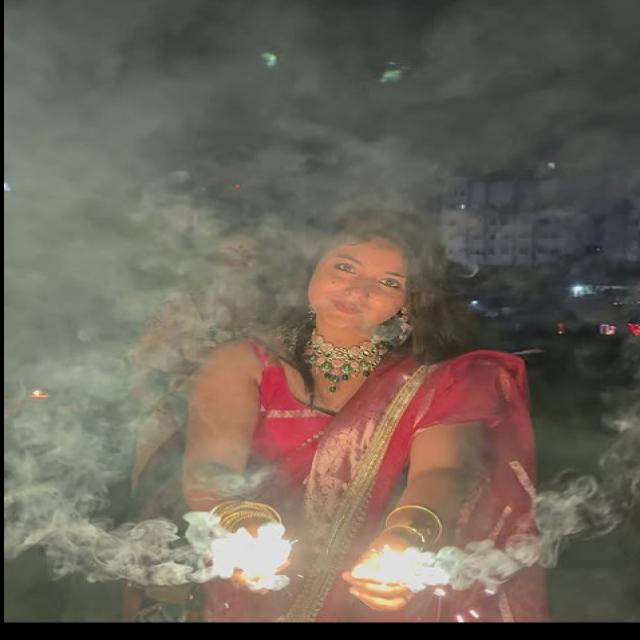fire: (211, 524, 289, 589), (351, 544, 445, 595)
